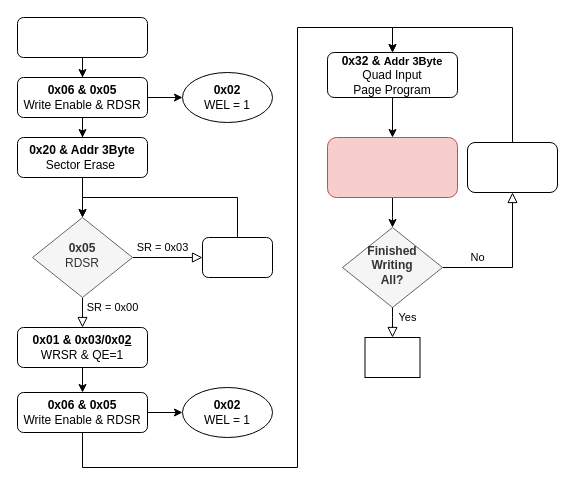
This 575x493 diagram has some shape labels left out. Each missing label, with the centre of its shape:
"0xAB Release Power Down" belongs at point (82, 37).
"Data Write 256Byte" belongs at point (392, 167).
"Done" belongs at point (392, 357).
"Repeat" belongs at point (237, 257).
"Repeat @ Next Address (+100h)" belongs at point (512, 167).
